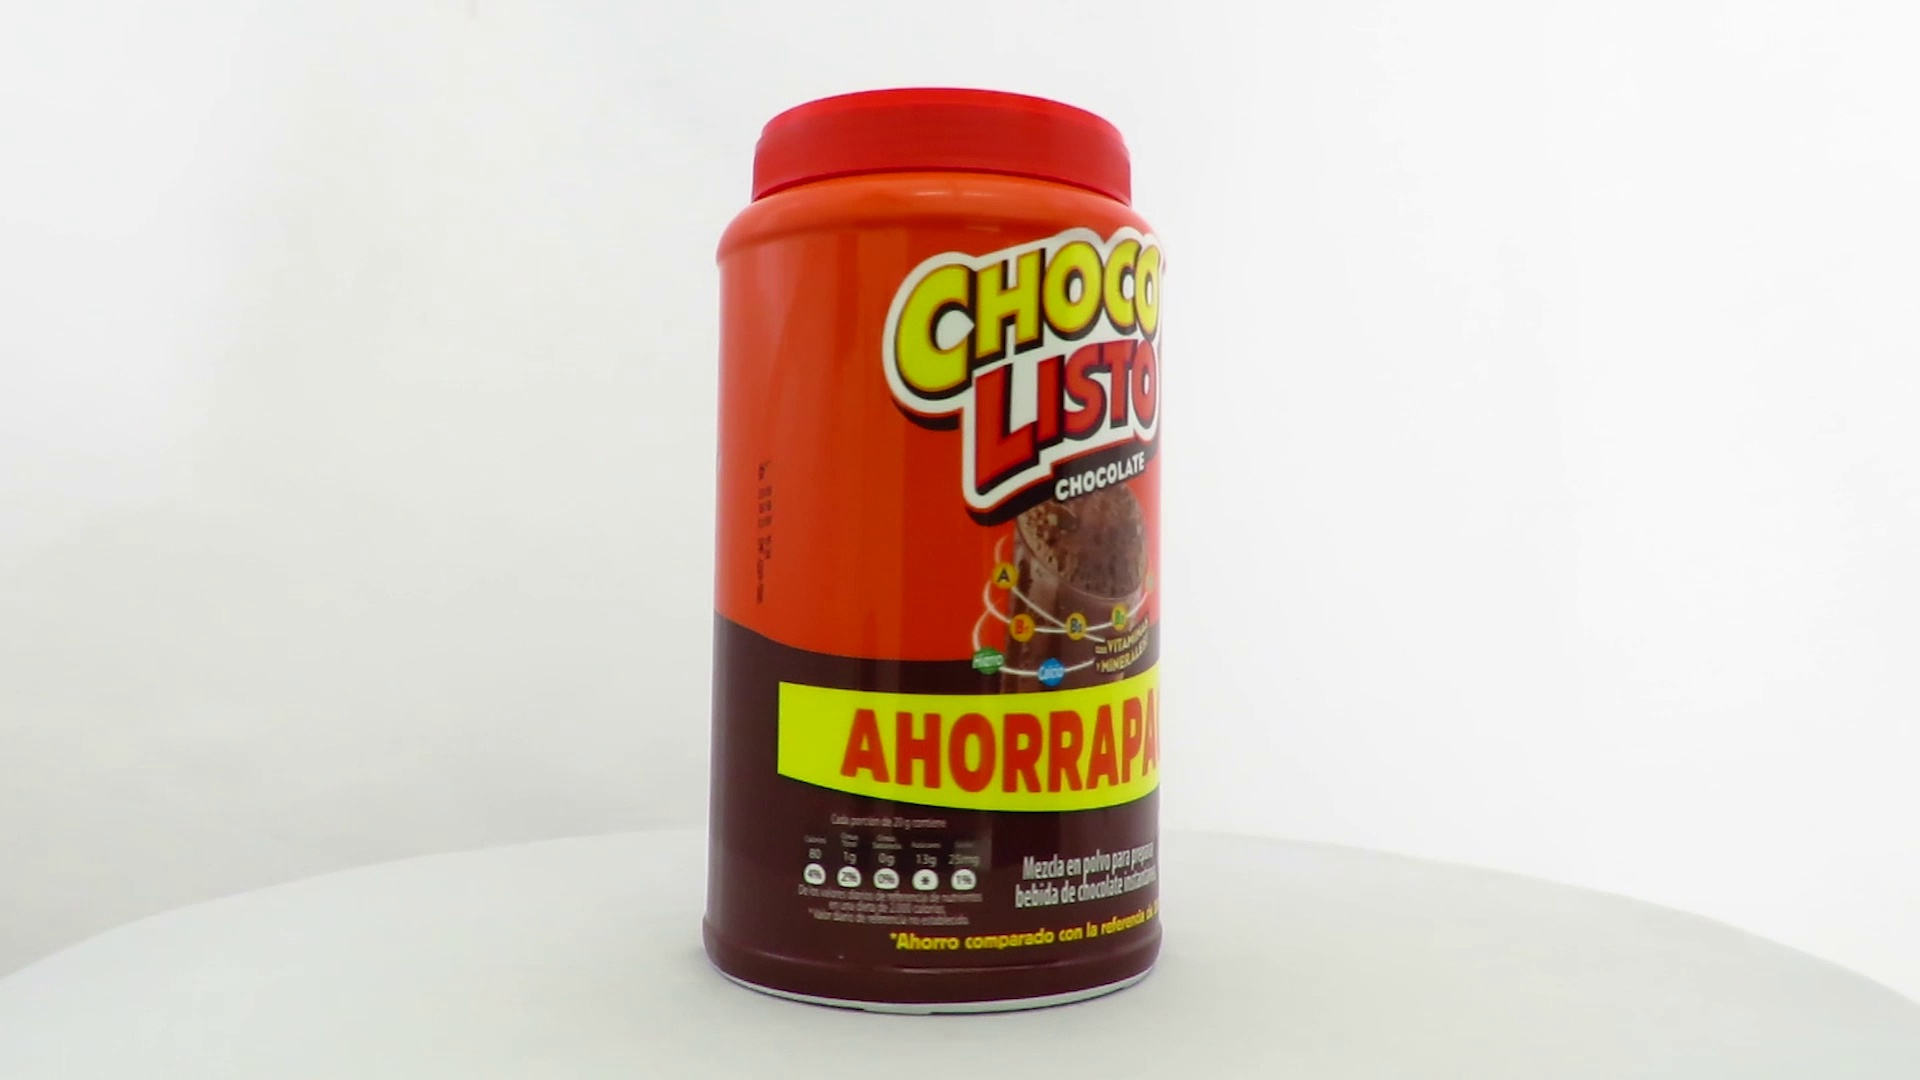COL0170103TRR00100: (696, 82, 1172, 1023)
